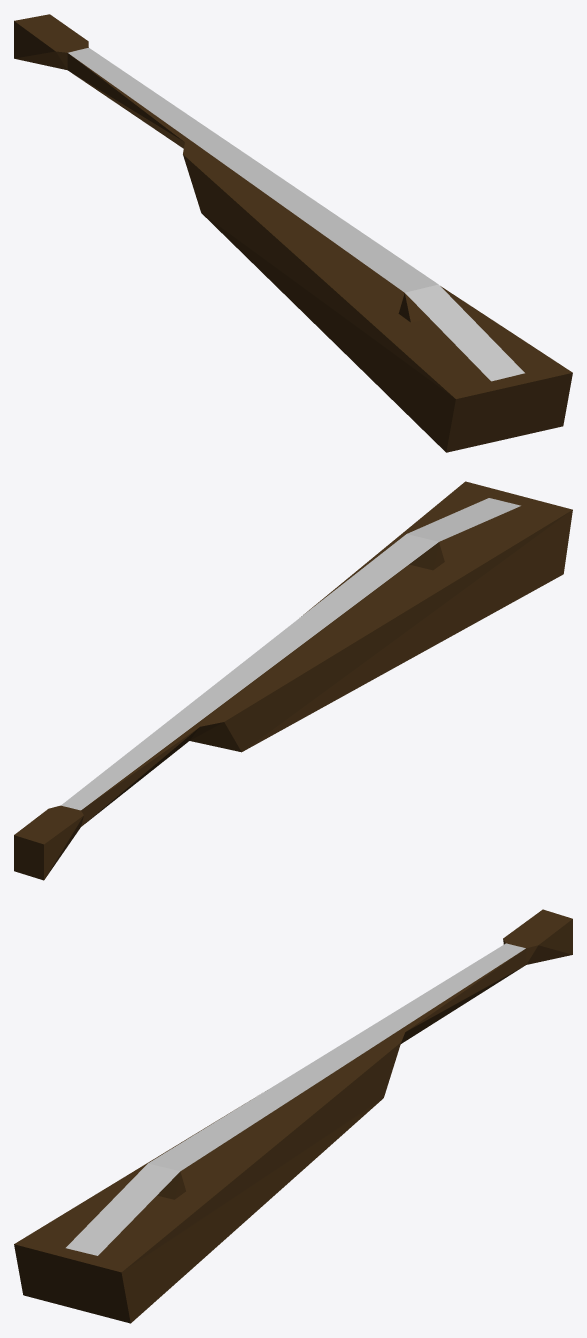
The model's file is ITMI_IE_DRUMSCHEIT.OBJ.
3 renders of one model, top to bottom at view 1: azimuth 30°, elevation 25°; view 2: azimuth 150°, elevation 25°; view 3: azimuth 330°, elevation 25°, orthographic. The views are drawn at different scales.
Parts seen in each view (by area): view 1: ITMI_IE_DRUMSCHEIT; view 2: ITMI_IE_DRUMSCHEIT; view 3: ITMI_IE_DRUMSCHEIT.
Boxes of the visible parts, left/top/right/bottom form: ITMI_IE_DRUMSCHEIT: left=14, top=14, right=572, bottom=452; ITMI_IE_DRUMSCHEIT: left=14, top=481, right=572, bottom=880; ITMI_IE_DRUMSCHEIT: left=14, top=909, right=572, bottom=1323.
Bounding box in the file's own units: 0.2433 × 0.1742 × 1.84.
